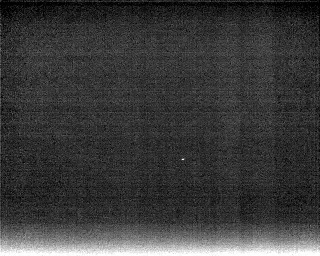BIRD: (179, 155, 187, 164)
